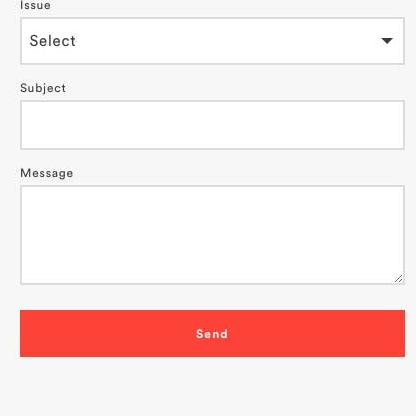button: (19, 308, 406, 358)
field: (18, 184, 405, 285), (18, 98, 404, 150), (19, 16, 405, 65)
field_with_label: (15, 169, 410, 288), (13, 79, 407, 153)
